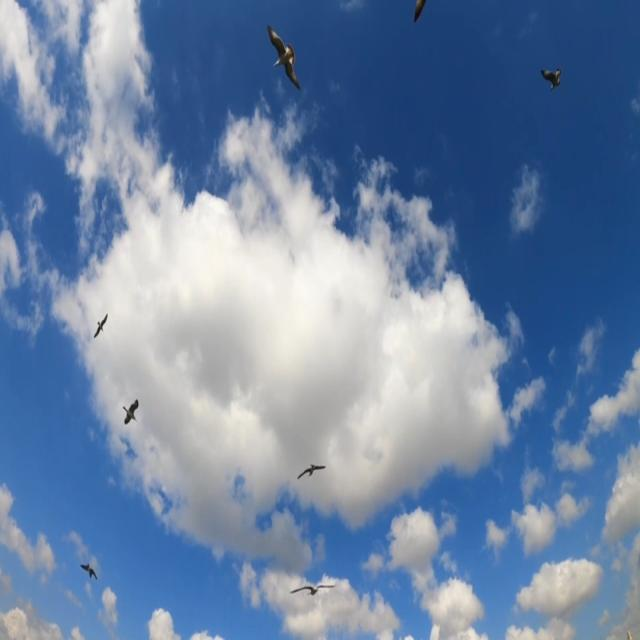bird: (259, 2, 328, 122), (536, 58, 569, 101), (294, 571, 341, 601), (74, 311, 112, 344), (300, 457, 334, 492), (411, 0, 438, 43), (80, 553, 105, 596), (122, 387, 140, 434)
